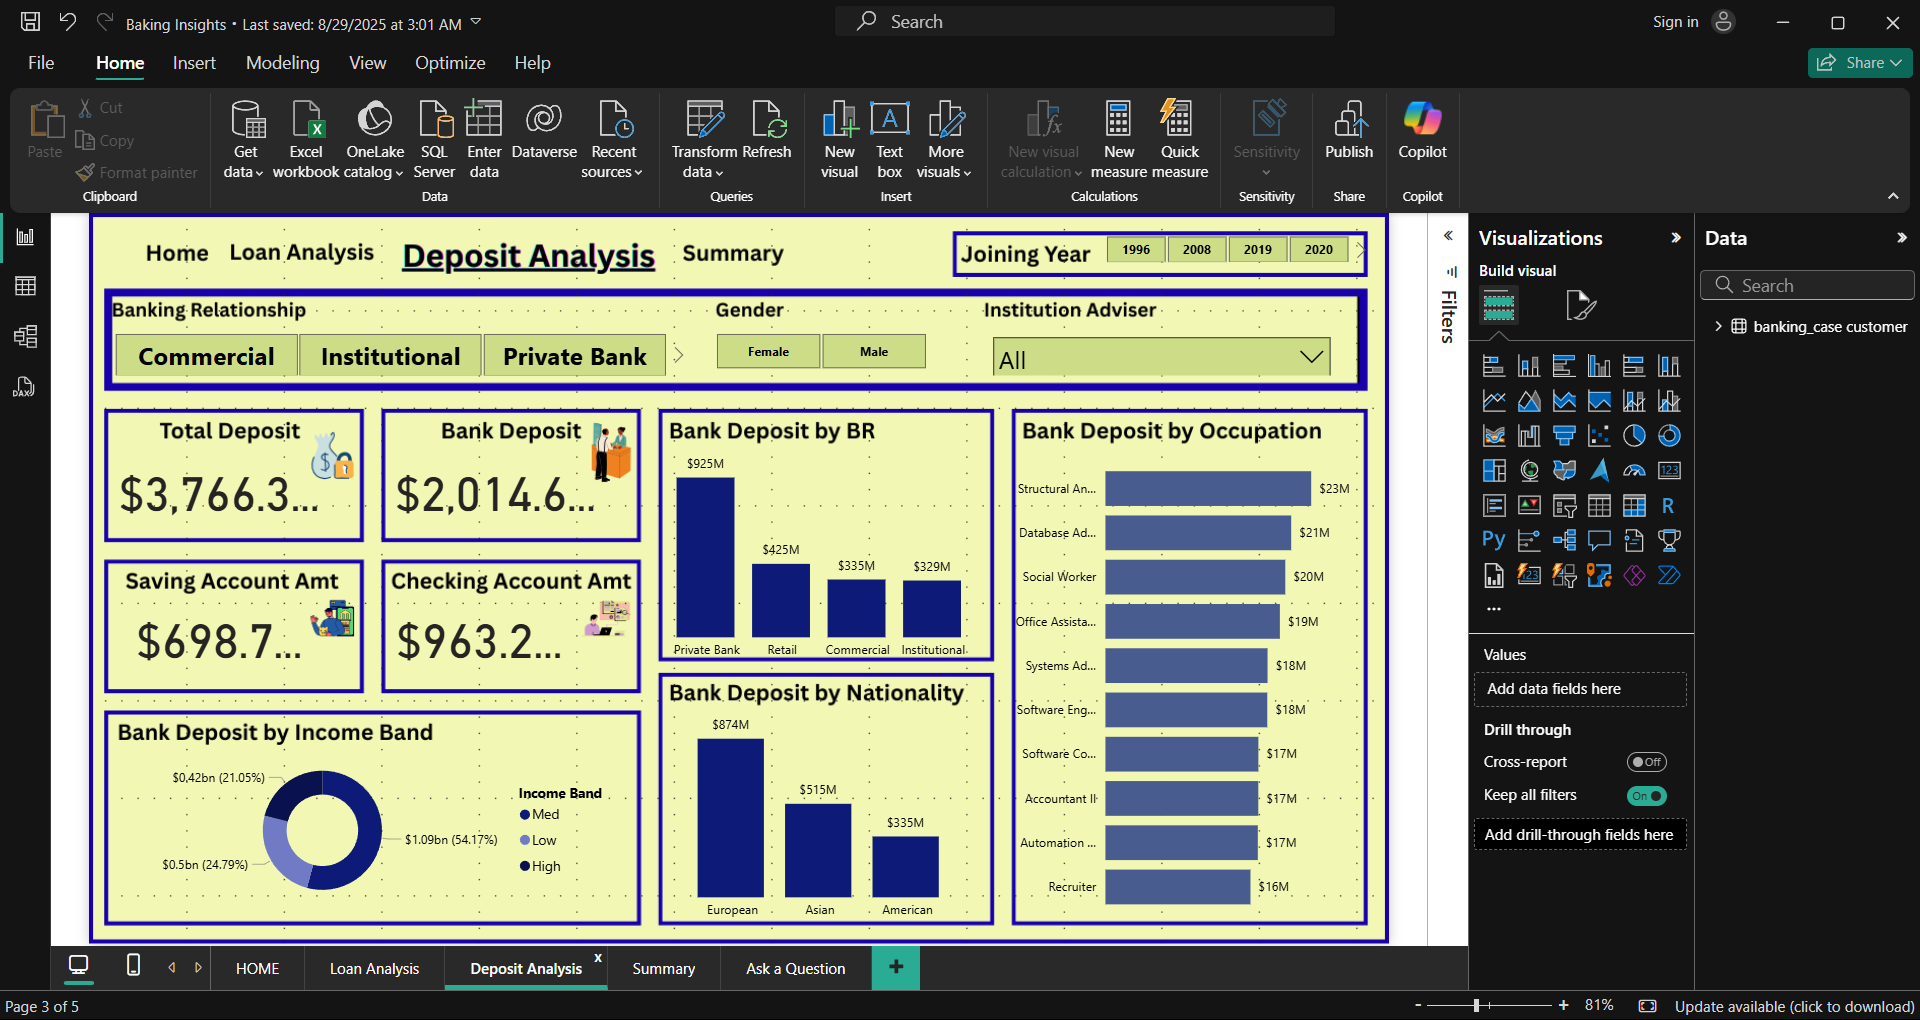

This screenshot's page, from the dashboard's own definition file:
{"tool":"powerbi","page":{"name":"Deposit Analysis","canvas":[1280,720],"ordinal":2},"visuals":[{"type":"card","fields":{"Values":["banking_case customer.Total Deposit"]},"box":[16,224,224,96],"z":0},{"type":"card","fields":{"Values":["Sum(banking_case customer.Bank Deposits)"]},"box":[288,224,224,96],"z":1000},{"type":"card","fields":{"Values":["Sum(banking_case customer.Saving Accounts)"]},"box":[32,384,192,64],"z":2000},{"type":"card","fields":{"Values":["Sum(banking_case customer.Checking Accounts)"]},"box":[288,384,192,64],"z":3000},{"type":"donutChart","fields":{"Category":["banking_case customer.Income Band"],"Y":["Sum(banking_case customer.Bank Deposits)"]},"box":[32,528,496,160],"z":4000},{"type":"columnChart","fields":{"Y":["Sum(banking_case customer.Bank Deposits)"],"Category":["banking_case customer.Nationality"]},"box":[560,480,320,224],"z":5000},{"type":"clusteredBarChart","fields":{"Y":["Sum(banking_case customer.Bank Deposits)"],"Category":["banking_case customer.Occupation"]},"box":[896,224,368,480],"z":6000},{"type":"slicer","fields":{"Values":["banking_case customer.BRId"]},"box":[0,112,592,48],"z":7000},{"type":"slicer","fields":{"Values":["banking_case customer.GenderId"]},"box":[592,112,256,48],"z":8000},{"type":"slicer","fields":{"Values":["banking_case customer.IAId"]},"box":[880,112,352,48],"z":9000},{"type":"slicer","fields":{"Values":["banking_case customer.Year of Joining"]},"box":[976,16,288,32],"z":10000},{"type":"actionButton","box":[48,16,80,32],"z":11000},{"type":"actionButton","box":[128,16,160,32],"z":12000},{"type":"actionButton","box":[576,16,112,32],"z":13000},{"type":"columnChart","fields":{"Category":["banking_case customer.BRId"],"Y":["Sum(banking_case customer.Bank Deposits)"]},"box":[544,224,352,224],"z":14000}]}

Visuals, with their boxes on the page's 1280x720 design canvas (x1, y1, x2, y2). These are canvas units, not pixel positions in the 1920x1020 screenshot, which may show the page scaled, cropped or inside an application window:
card - banking_case customer.Total Deposit: detection(16, 224, 240, 320)
card - Sum(banking_case customer.Bank Deposits): detection(288, 224, 512, 320)
card - Sum(banking_case customer.Saving Accounts): detection(32, 384, 224, 448)
card - Sum(banking_case customer.Checking Accounts): detection(288, 384, 480, 448)
donutChart - banking_case customer.Income Band x Sum(banking_case customer.Bank Deposits): detection(32, 528, 528, 688)
columnChart - Sum(banking_case customer.Bank Deposits) x banking_case customer.Nationality: detection(560, 480, 880, 704)
clusteredBarChart - Sum(banking_case customer.Bank Deposits) x banking_case customer.Occupation: detection(896, 224, 1264, 704)
slicer - banking_case customer.BRId: detection(0, 112, 592, 160)
slicer - banking_case customer.GenderId: detection(592, 112, 848, 160)
slicer - banking_case customer.IAId: detection(880, 112, 1232, 160)
slicer - banking_case customer.Year of Joining: detection(976, 16, 1264, 48)
actionButton: detection(48, 16, 128, 48)
actionButton: detection(128, 16, 288, 48)
actionButton: detection(576, 16, 688, 48)
columnChart - banking_case customer.BRId x Sum(banking_case customer.Bank Deposits): detection(544, 224, 896, 448)
